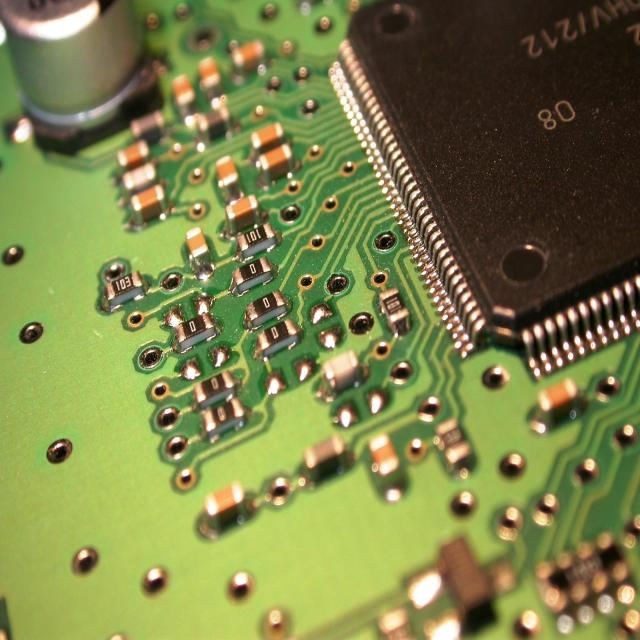pcb: (1, 1, 638, 638)
